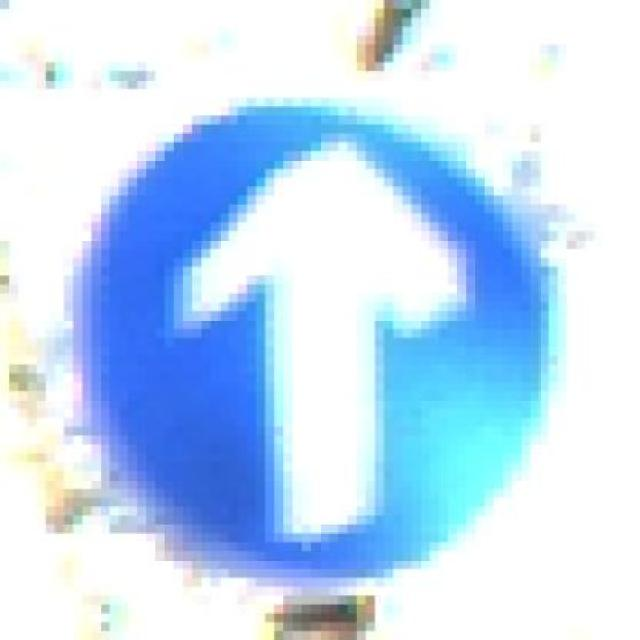Straight Ahead Only: (55, 89, 567, 586)
